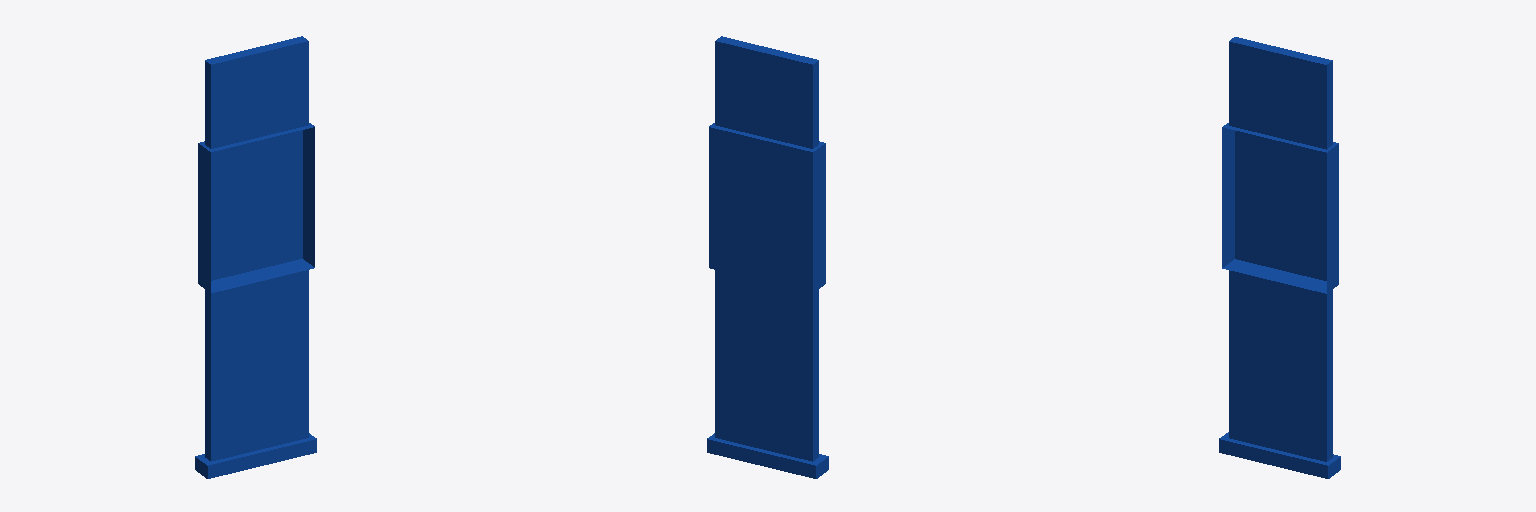
3 renders of one model, left to right at view 1: azimuth 30°, elevation 25°; view 2: azimuth 150°, elevation 25°; view 3: azimuth 330°, elevation 25°, orthographic.
Parts seen in each view (by area): view 1: 2_WTC_Old_Plaza_Sign_001; view 2: 2_WTC_Old_Plaza_Sign_001; view 3: 2_WTC_Old_Plaza_Sign_001.
Part boxes in pixels (x1,y1,x2,y2): 2_WTC_Old_Plaza_Sign_001: (195, 36, 316, 478); 2_WTC_Old_Plaza_Sign_001: (707, 36, 828, 478); 2_WTC_Old_Plaza_Sign_001: (1219, 37, 1340, 478).
Size of the model in its own units: 44.25 by 158 by 9.